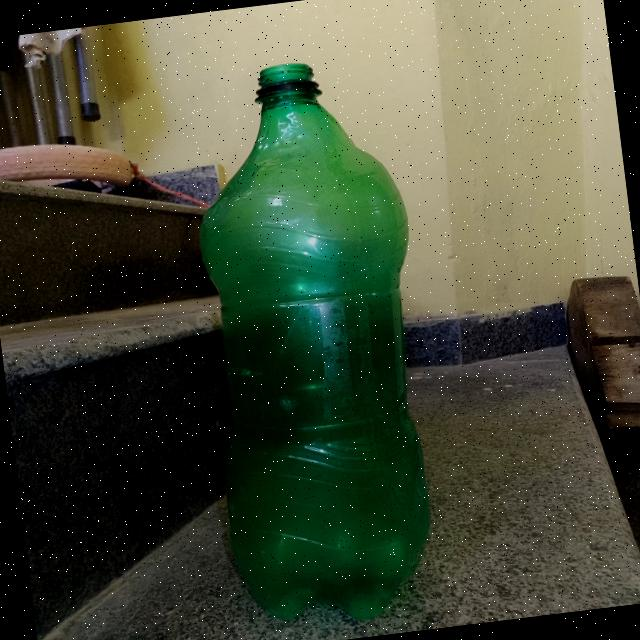bottle: (156, 40, 461, 638)
